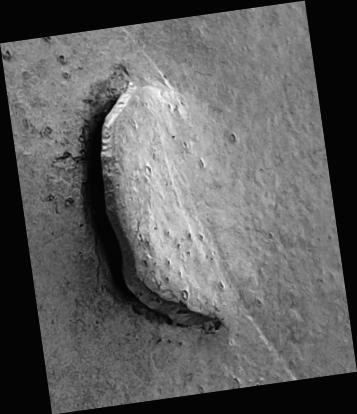crack: (1, 0, 357, 414)
